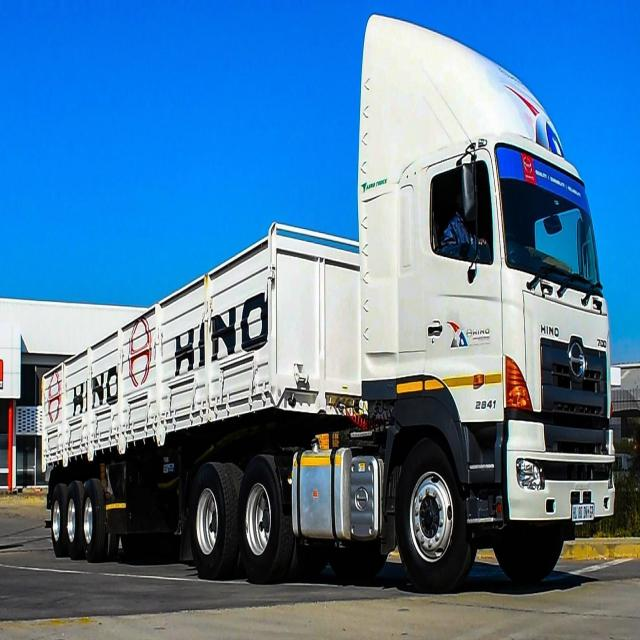Heavy Duty Truck: (31, 11, 624, 594)
